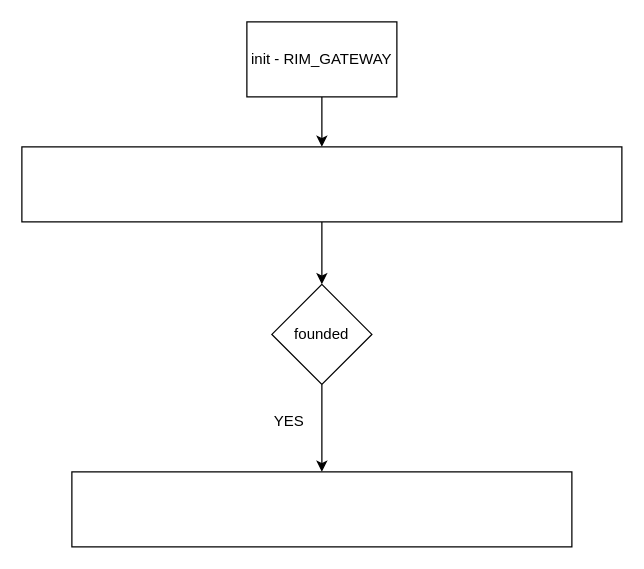
Image size: 644x569. Some labels were removed from this diagram. The centre of each missing label's shape, as x and y in pixels:
check device - / Device/search/: (x=321, y=184)
save/update Device- /Device/saveorupdate/: (x=321, y=509)
